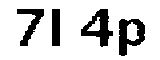4: (78, 5, 116, 52)
7: (10, 6, 47, 53)
l: (49, 4, 67, 57)
p: (116, 14, 151, 60)
